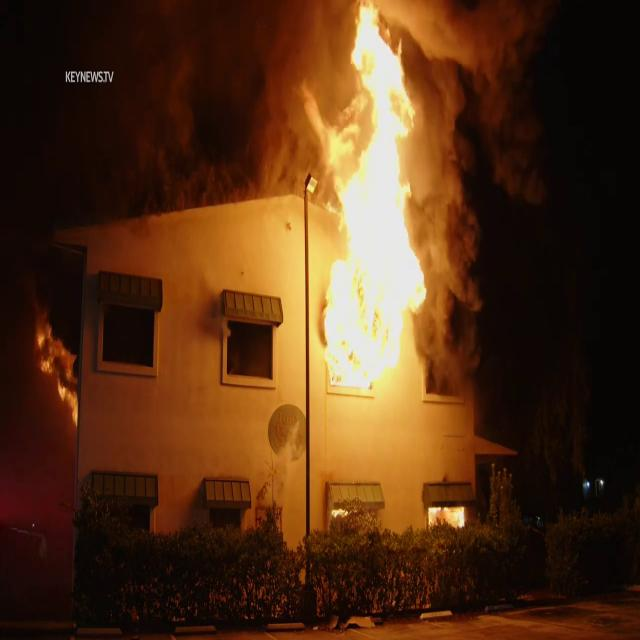Fire: (296, 1, 458, 398), (31, 308, 81, 436)
